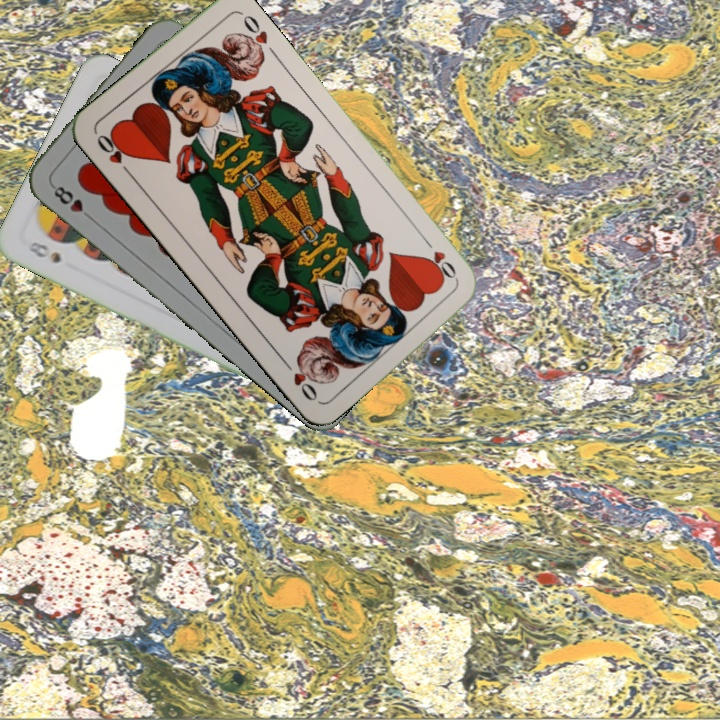H8: (47, 180, 97, 223)
HO: (92, 130, 135, 179), (421, 247, 462, 286)
S8: (23, 237, 64, 266)
